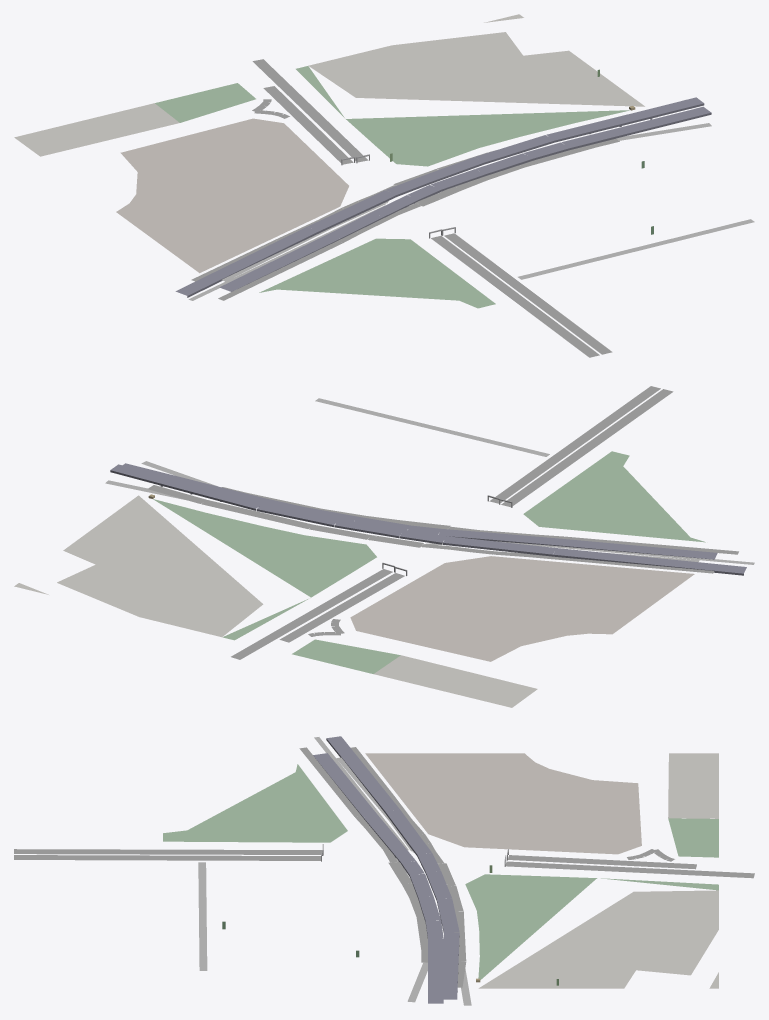
3 renders of one model, top to bottom at view 1: azimuth 30°, elevation 25°; view 2: azimuth 150°, elevation 25°; view 3: azimuth 270°, elevation 25°, orthographic. The views are drawn at different scales.
Bounding box in the file's own units: 576 × 10 × 666.
